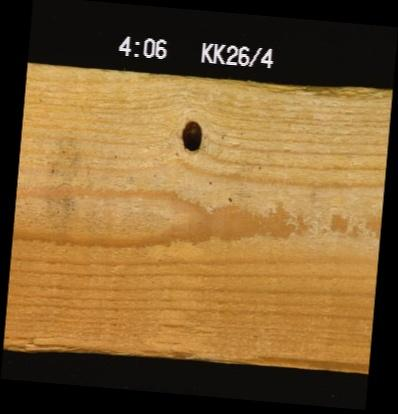wave: (235, 81, 391, 100), (234, 351, 367, 367), (139, 340, 203, 356)
